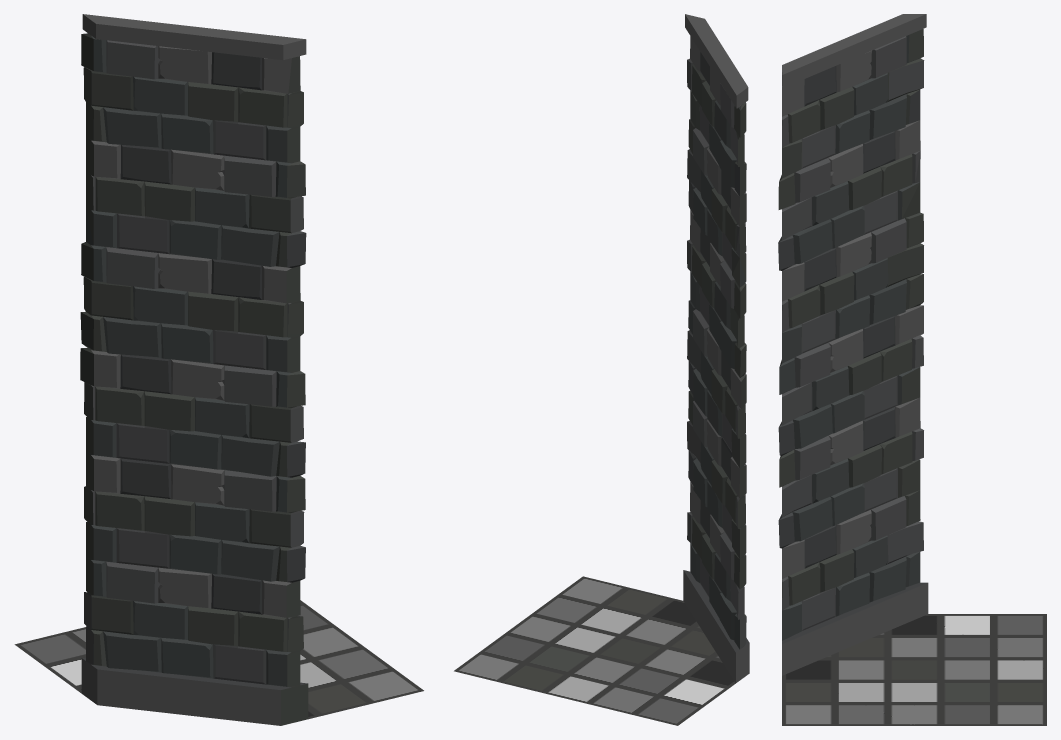
The model's file is Dungeon_Tilemap_02.fbx.
3 renders of one model, left to right at view 1: azimuth 30°, elevation 25°; view 2: azimuth 150°, elevation 25°; view 3: azimuth 270°, elevation 25°, orthographic. The views are drawn at different scales.
Parts seen in each view (by area): view 1: Dungeon_Tilemap_02; view 2: Dungeon_Tilemap_02; view 3: Dungeon_Tilemap_02.
Boxes of the visible parts, x1,y1,x2,y2 form: Dungeon_Tilemap_02: [14, 14, 423, 725]; Dungeon_Tilemap_02: [454, 14, 749, 725]; Dungeon_Tilemap_02: [778, 14, 1046, 725].
Size of the model in its own units: 101 by 250 by 101.
2 materials, 2 textured.
